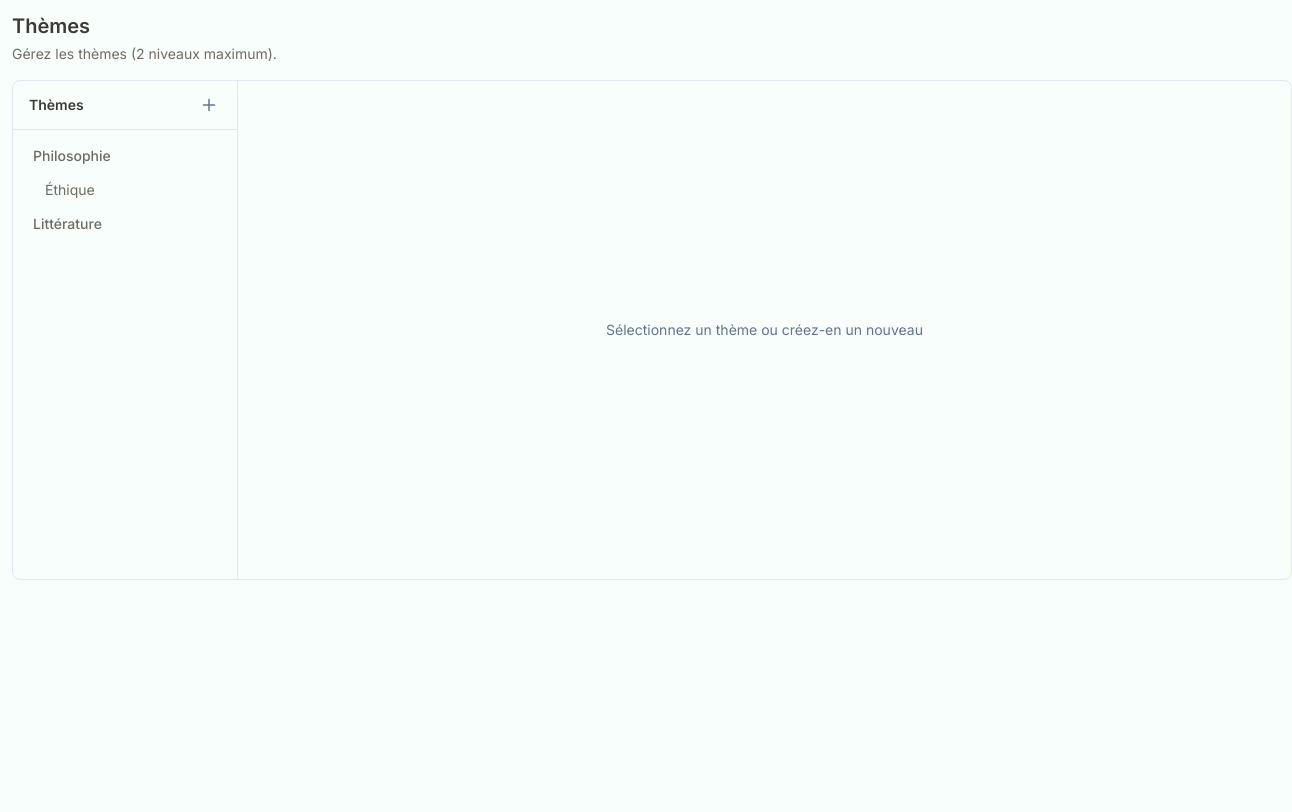
Test: ThemesPage › affiche le parent dans le sélecteur pour un sous-thème
Click the button with test id "theme-item-2" at point(125, 190), box [21,174,229,206]
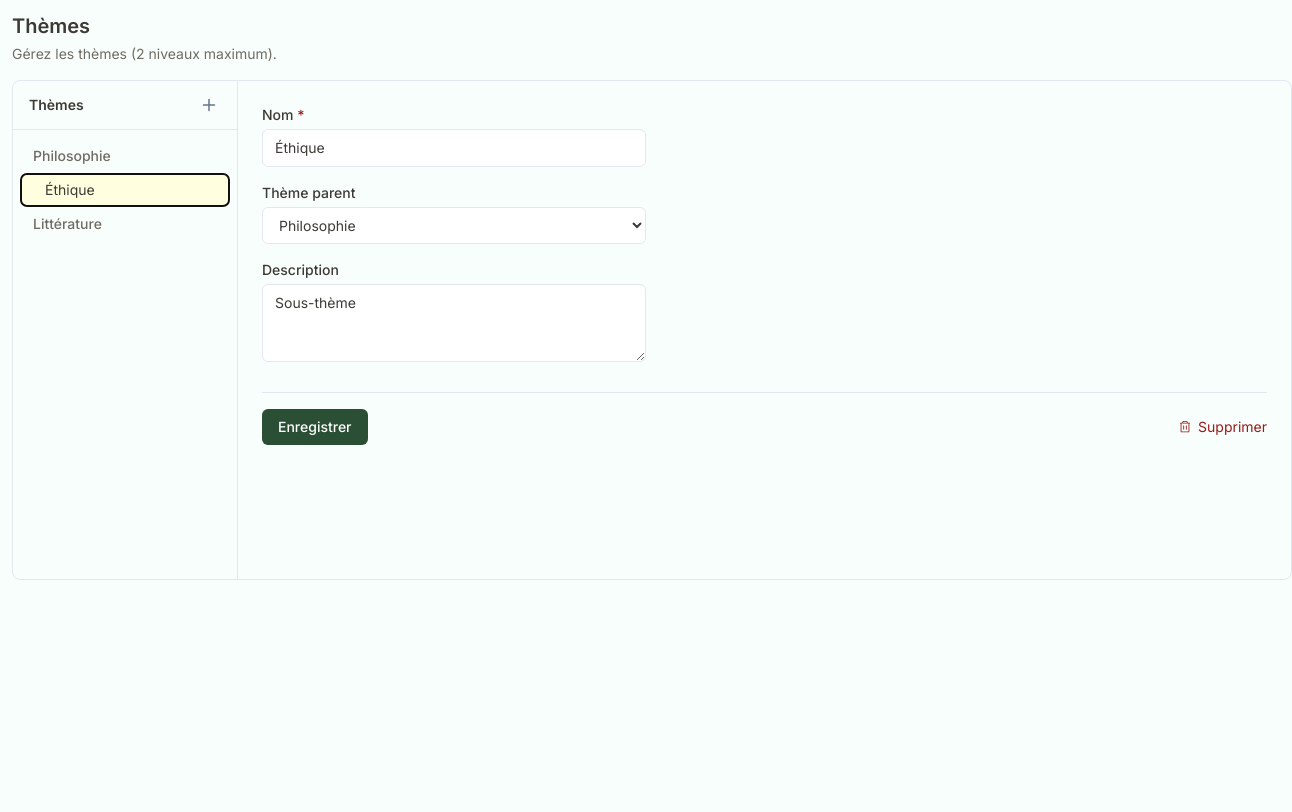
Check: the dropdown labelled "Thème parent" shows "Philosophie", box [262,207,646,244]
